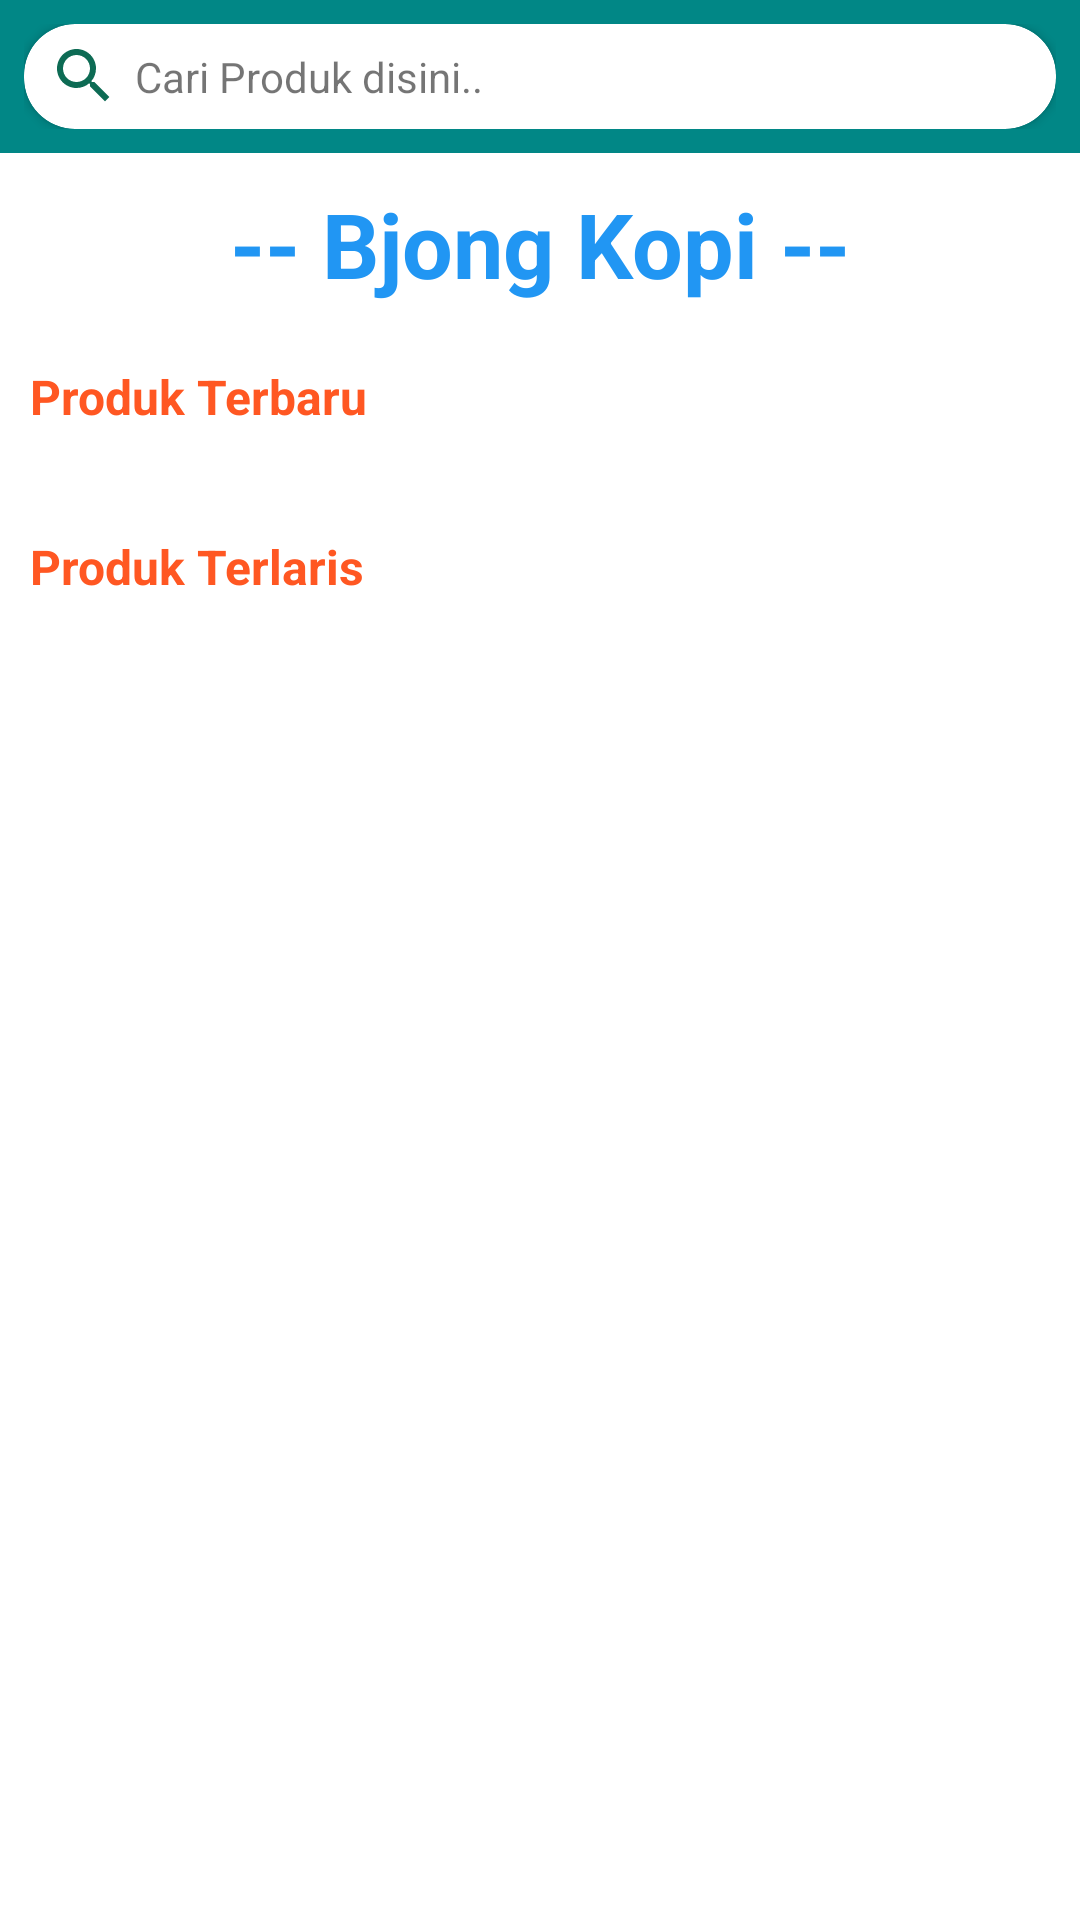

Icons on this 1080 x 1920 Android screen, each with the point to tap as [x,y]:
search: [83,75]
